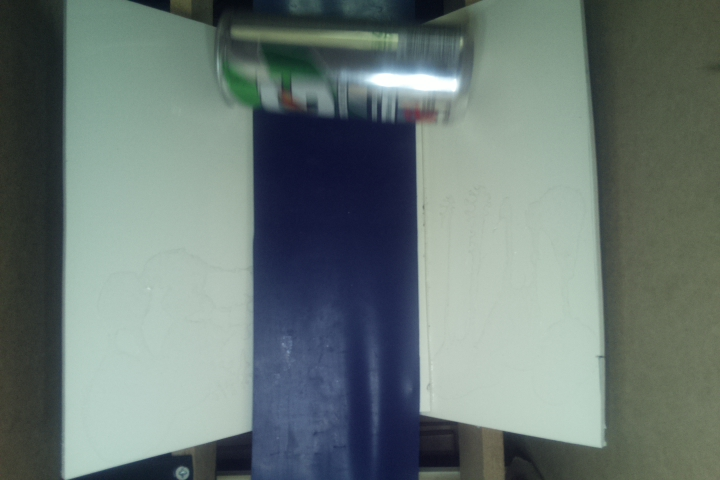can: (216, 7, 478, 128)
